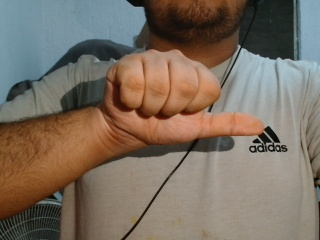Izquierda: (100, 41, 277, 157)
